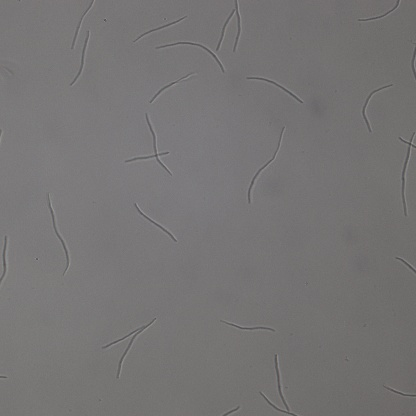Sensitive: (100, 317, 157, 378), (124, 111, 173, 176), (246, 127, 287, 201), (258, 354, 298, 416), (155, 40, 224, 72), (46, 192, 71, 276), (135, 203, 177, 242), (361, 83, 392, 133), (247, 76, 302, 103), (399, 132, 416, 217), (136, 15, 188, 42), (215, 1, 241, 53), (151, 72, 194, 102), (71, 1, 94, 49), (73, 31, 93, 85), (357, 1, 401, 23), (221, 320, 276, 335)
